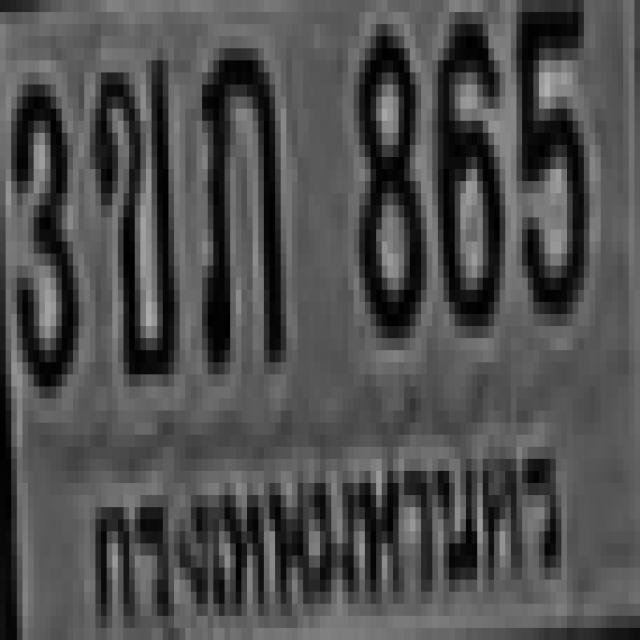11KhorKhai: (90, 48, 174, 374)
3: (6, 72, 73, 386)
41PhorSamPhao: (197, 36, 280, 362)
5: (511, 0, 584, 314)
6: (432, 6, 500, 320)
8: (354, 12, 421, 326)
Bangkok: (84, 419, 566, 636)
